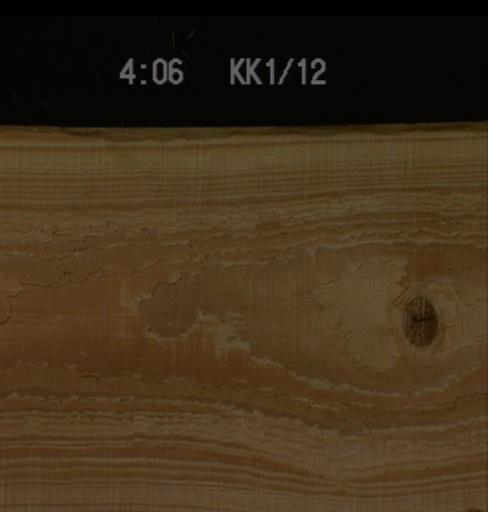sound_knot: (398, 292, 441, 348)
wave: (0, 121, 486, 138)
